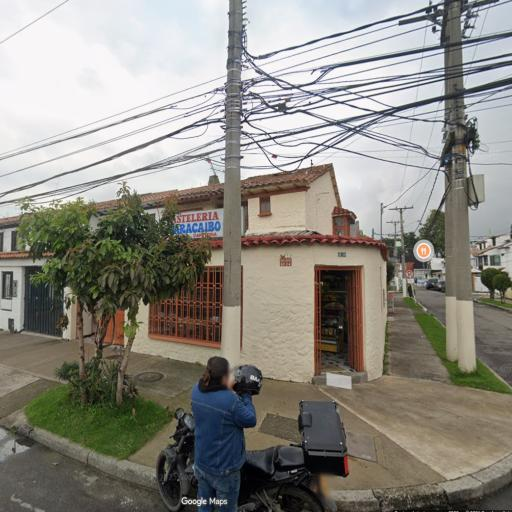Casa: (126, 164, 389, 389)
postes: (220, 2, 251, 358)
